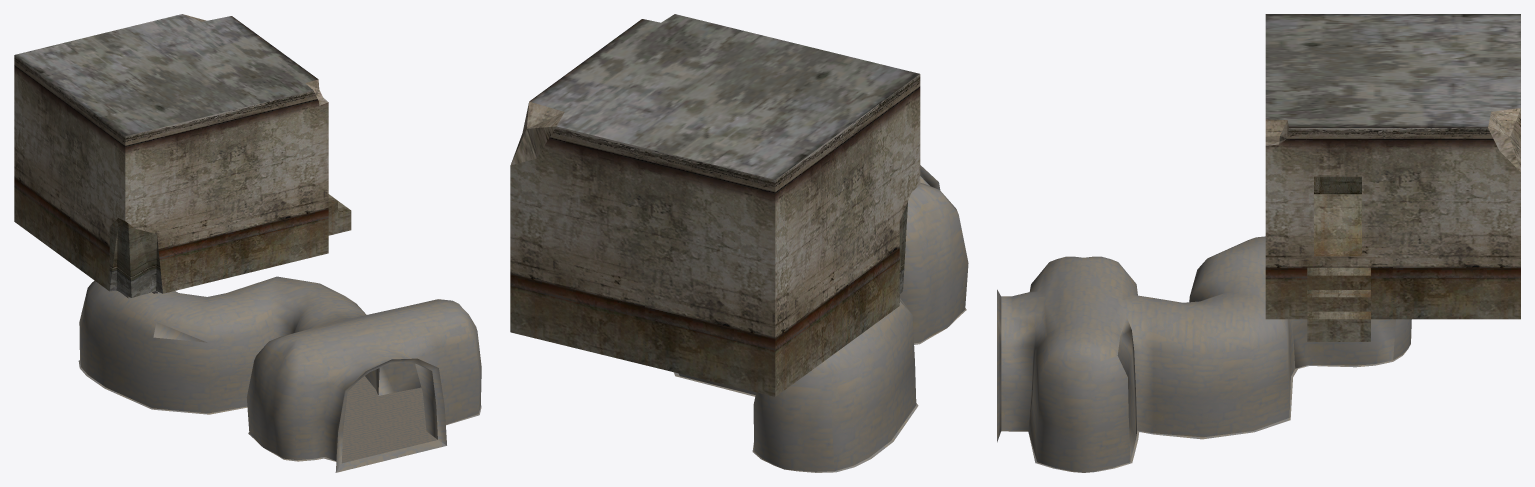
File: R_Ent2.glb
3 views of the same model, side by side, from view 1: azimuth 30°, elevation 25°; view 2: azimuth 150°, elevation 25°; view 3: azimuth 270°, elevation 25° (orthographic). The views are drawn at different scales.
Visible parts, largest first — view 1: _R_Ent2; view 2: _R_Ent2; view 3: _R_Ent2.
Boxes of the visible parts, <box> form: _R_Ent2: <box>14,14,481,472</box>; _R_Ent2: <box>510,14,968,472</box>; _R_Ent2: <box>997,14,1520,472</box>.
Size of the model in its own units: 11.35 by 10.87 by 16.43.
8 materials, 8 textured.
